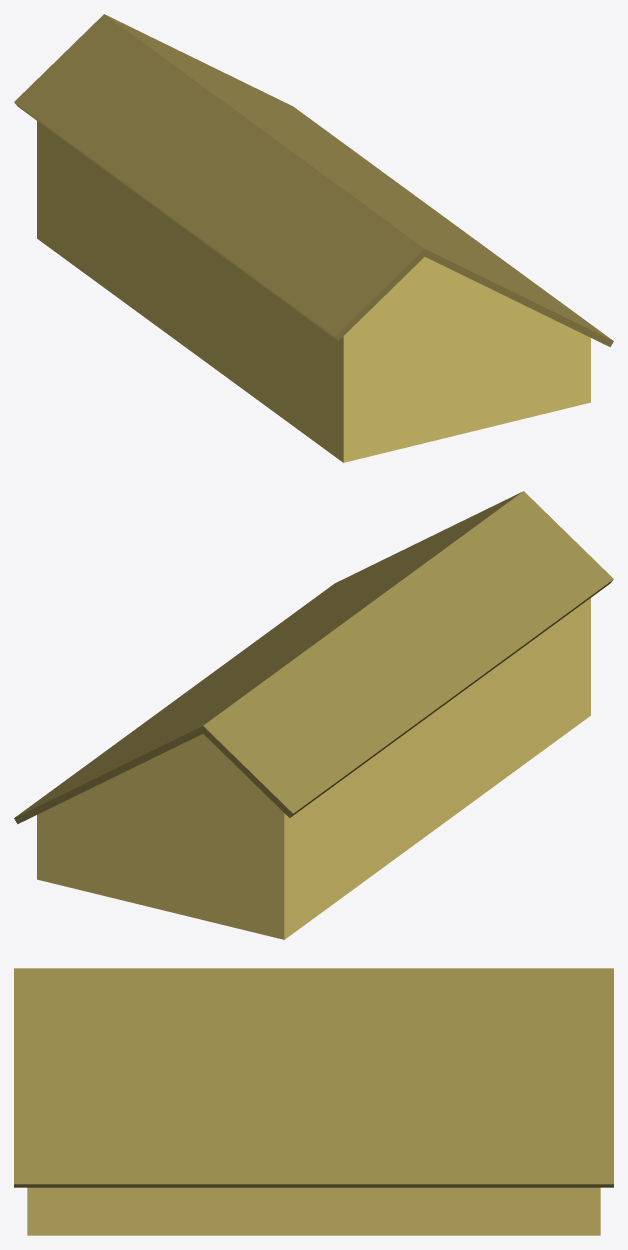
File: result.glb
The picture shows the model from 3 angles, top to bottom: view 1: azimuth 30°, elevation 25°; view 2: azimuth 150°, elevation 25°; view 3: azimuth 270°, elevation 25°; orthographic projection. The views are drawn at different scales.
Parts seen in each view (by area): view 1: 5b49910d-0a61-4cf2-8f7a-860256702c91__undefined, d7269860-df00-426d-8cd1-284feb191283__undefined (×2); view 2: 5b49910d-0a61-4cf2-8f7a-860256702c91__undefined, d7269860-df00-426d-8cd1-284feb191283__undefined (×2); view 3: d7269860-df00-426d-8cd1-284feb191283__undefined, 5b49910d-0a61-4cf2-8f7a-860256702c91__undefined.
Part boxes in pixels (x1,y1,x2,y2): 5b49910d-0a61-4cf2-8f7a-860256702c91__undefined: [37, 121, 590, 462]; d7269860-df00-426d-8cd1-284feb191283__undefined (×2): [14, 14, 613, 347]; 5b49910d-0a61-4cf2-8f7a-860256702c91__undefined: [37, 598, 590, 939]; d7269860-df00-426d-8cd1-284feb191283__undefined (×2): [14, 491, 613, 824]; d7269860-df00-426d-8cd1-284feb191283__undefined: [14, 968, 613, 1187]; 5b49910d-0a61-4cf2-8f7a-860256702c91__undefined: [27, 1187, 600, 1235].
Bounding box in the file's own units: 1127 × 776 × 2241.
